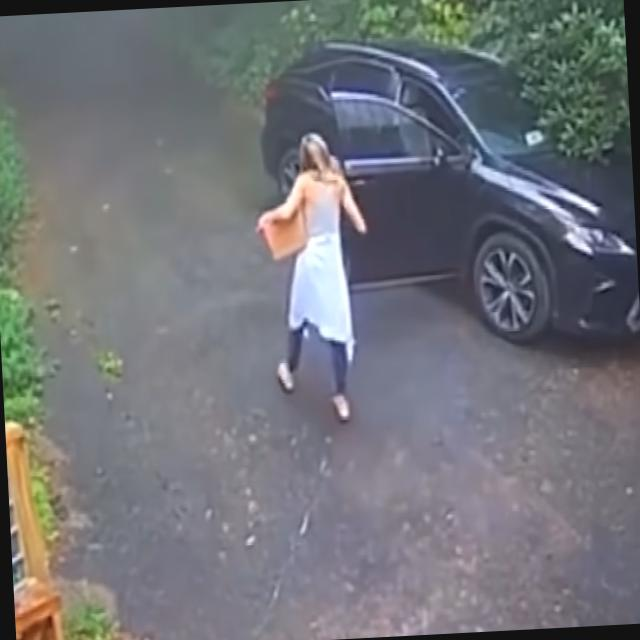person: (254, 128, 377, 426)
